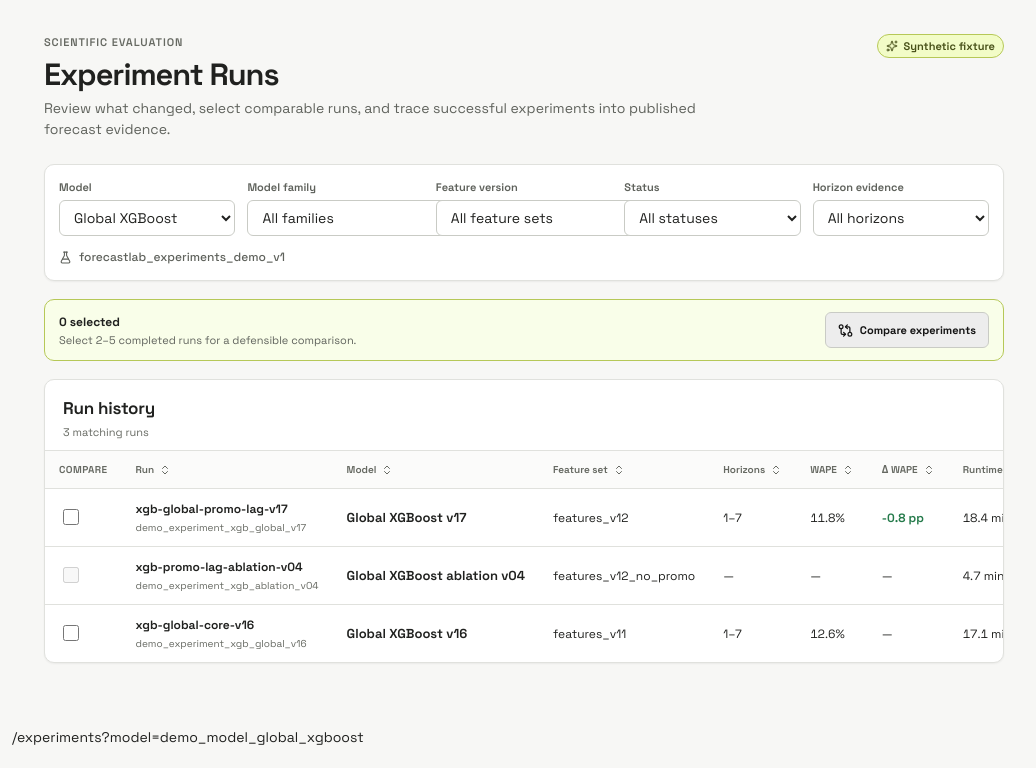
Test: ExperimentRunsPage › filters run history from URL-addressable controls
Expected: the heading "Experiment Runs" is shown, [44, 54, 278, 94]
Expected: the text "xgb-global-promo-lag-v17" is shown, [136, 501, 288, 517]
Select "failed" in the dropdown labelled "Status" at (712, 218), box [624, 200, 801, 236]
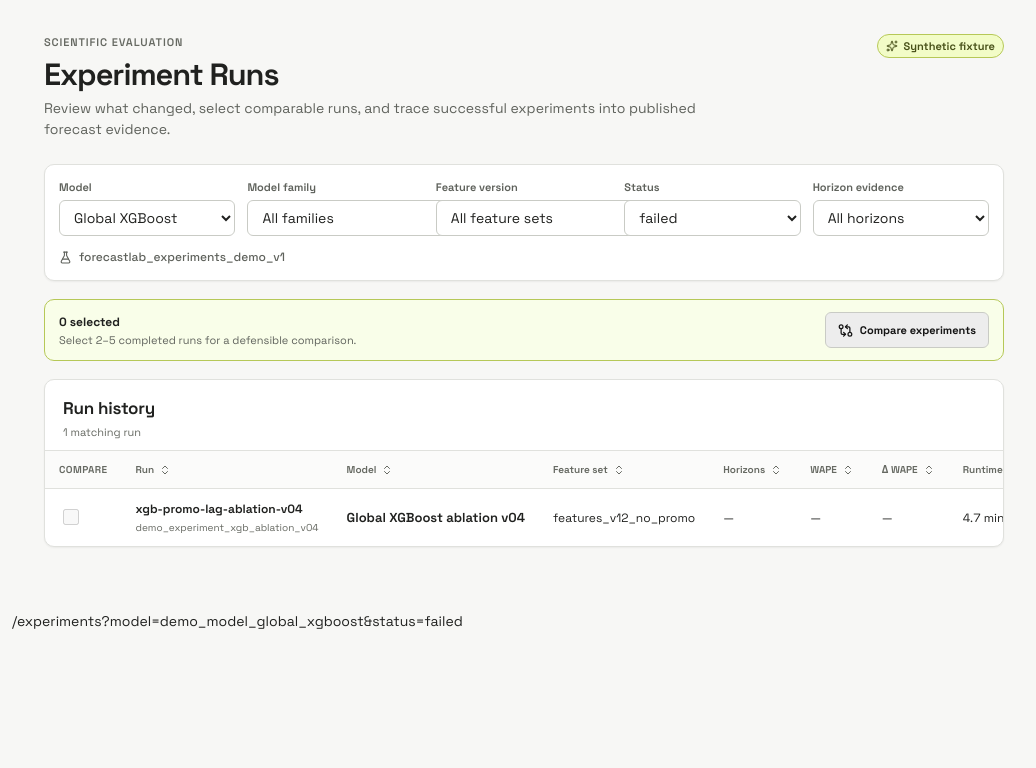
Expected: the text "xgb-promo-lag-ablation-v04" is shown, [136, 500, 319, 518]
Now the text with test id "location" shows "status=failed", box [12, 612, 463, 630]
Now the text "xgb-global-promo-lag-v17" is gone
